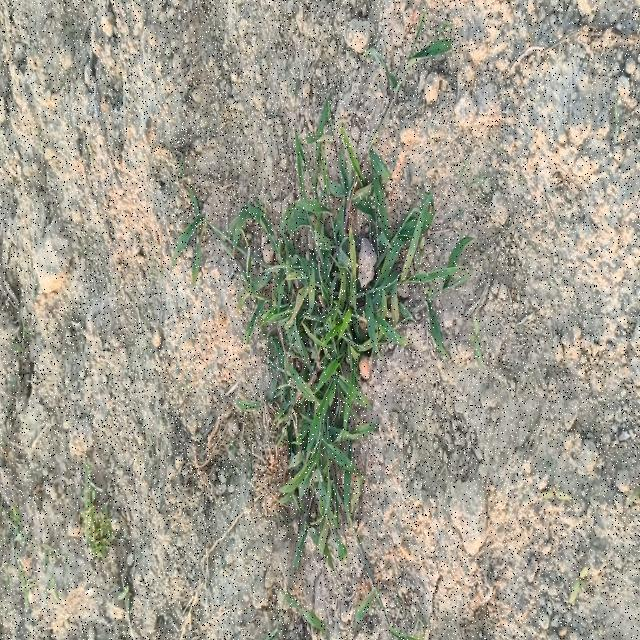weed: (217, 96, 472, 555), (224, 95, 470, 559)
